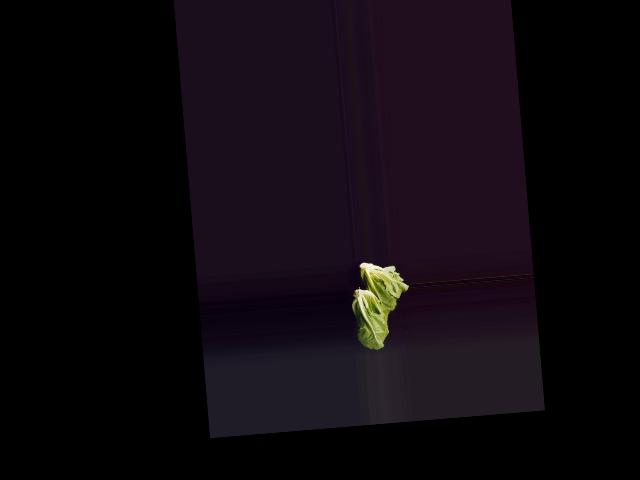lettuce: (352, 259, 410, 324)
